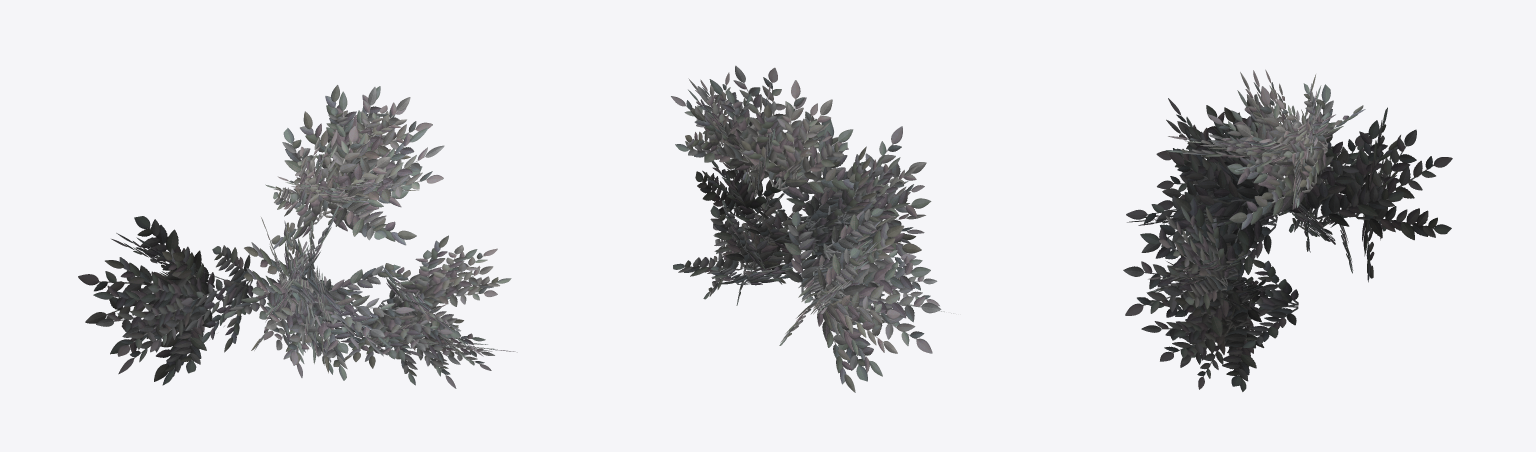
File: oak_wide_l2.gltf
3 renders of one model, left to right at view 1: azimuth 30°, elevation 25°; view 2: azimuth 150°, elevation 25°; view 3: azimuth 270°, elevation 25°, orthographic. The views are drawn at different scales.
Parts seen in each view (by area): view 1: oak_wide_l2; view 2: oak_wide_l2; view 3: oak_wide_l2.
Boxes of the visible parts, x1,y1,x2,y2 form: oak_wide_l2: (78, 85, 517, 388); oak_wide_l2: (671, 65, 953, 392); oak_wide_l2: (1123, 69, 1452, 391).
Bounding box in the file's own units: 15.69 × 12.39 × 14.11.
Materials: 1 (1 with a texture image).
